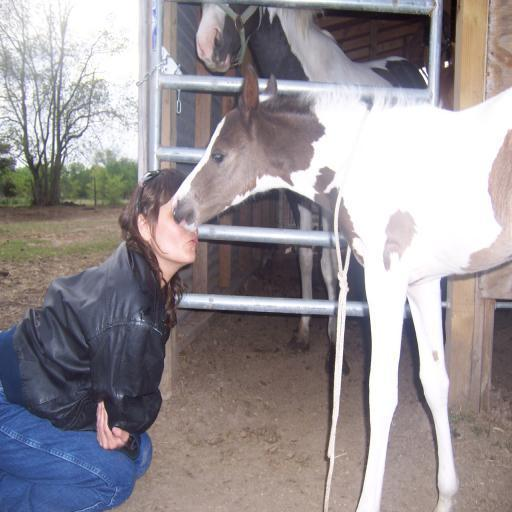horse: (169, 66, 512, 512), (195, 0, 427, 376)
